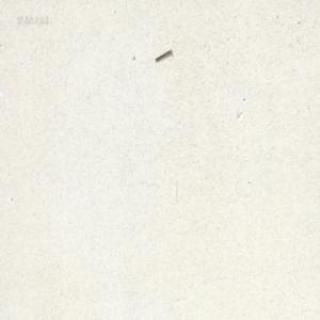Bolttrack_idkeyframe: (153, 47, 171, 60)
